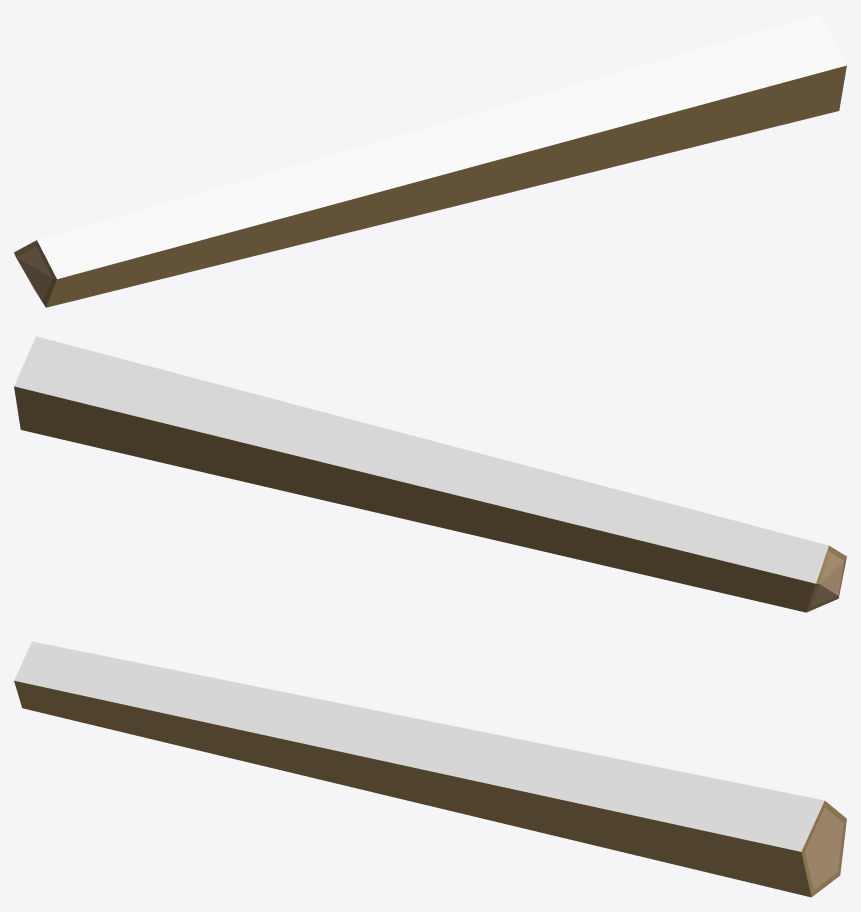
File: Oak_Log_Snow_03.fbx
3 views of the same model, one above another, from view 1: azimuth 30°, elevation 25°; view 2: azimuth 150°, elevation 25°; view 3: azimuth 330°, elevation 25° (orthographic).
Visible parts, largest first — view 1: Oak_Log_Snow_03; view 2: Oak_Log_Snow_03; view 3: Oak_Log_Snow_03.
Part boxes in pixels (box(x1,y1,x2,y2)): Oak_Log_Snow_03: box(14, 14, 846, 307); Oak_Log_Snow_03: box(14, 336, 846, 612); Oak_Log_Snow_03: box(14, 641, 846, 897).
Bounding box in the file's own units: 390 × 40.04 × 42.92.
